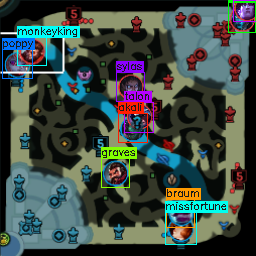akali: (119, 117, 144, 139)
braum: (168, 199, 194, 225)
graves: (103, 160, 128, 185)
kalista: (229, 8, 256, 32)
missfortune: (169, 218, 192, 240)
monkeyking: (17, 37, 46, 64)
poppy: (5, 52, 30, 77)
sylas: (118, 74, 142, 99)
talon: (125, 103, 151, 127)
taric: (234, 1, 256, 20)
